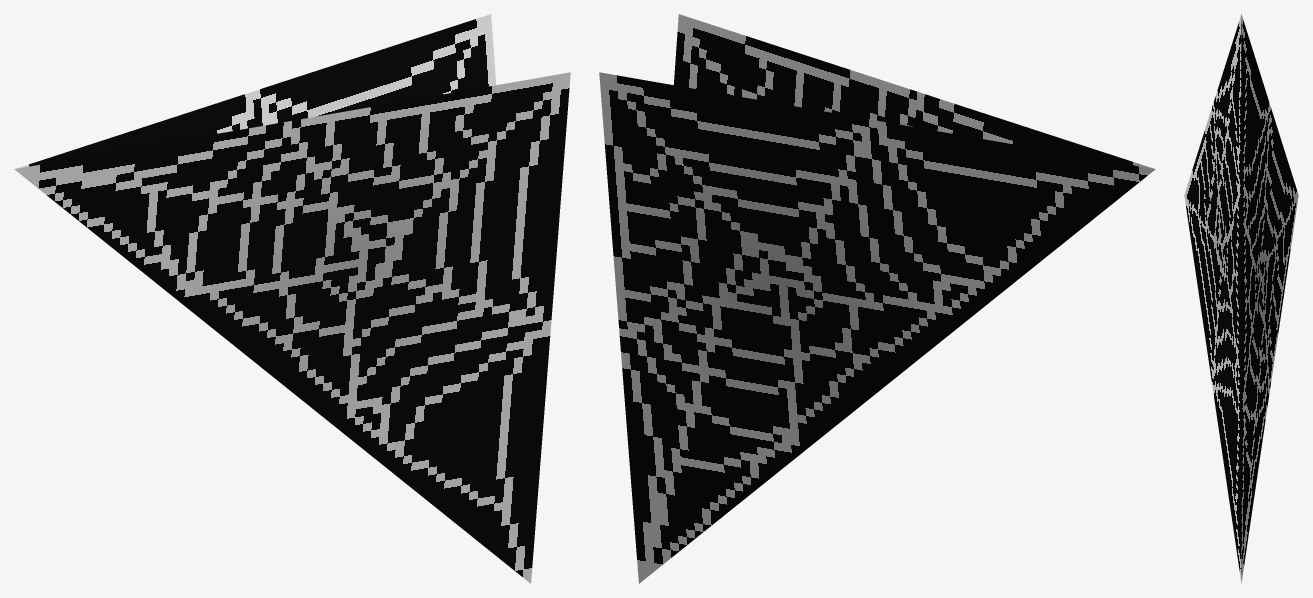
The model's file is CobwebA.fbx.
3 renders of one model, left to right at view 1: azimuth 30°, elevation 25°; view 2: azimuth 150°, elevation 25°; view 3: azimuth 270°, elevation 25°, orthographic. The views are drawn at different scales.
Visible parts, largest first — view 1: Cylinder; view 2: Cylinder; view 3: Cylinder.
Boxes of the visible parts, left/top/right/bottom form: Cylinder: left=14, top=14, right=570, bottom=583; Cylinder: left=599, top=14, right=1155, bottom=583; Cylinder: left=1184, top=14, right=1298, bottom=583.
Bounding box in the file's own units: 1.5 × 1.5 × 0.4.
